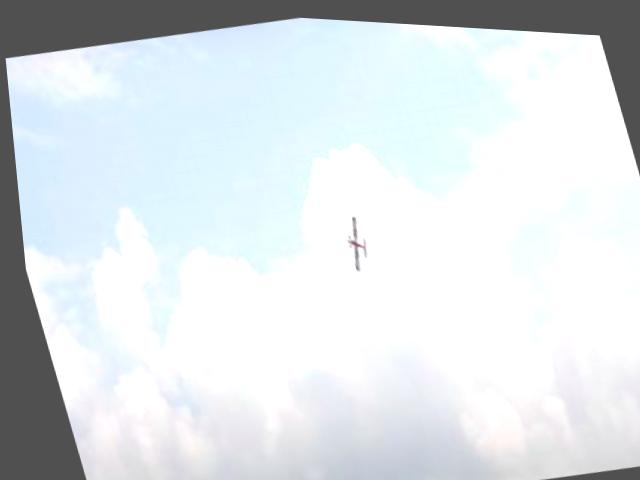uav: (328, 201, 376, 274)
